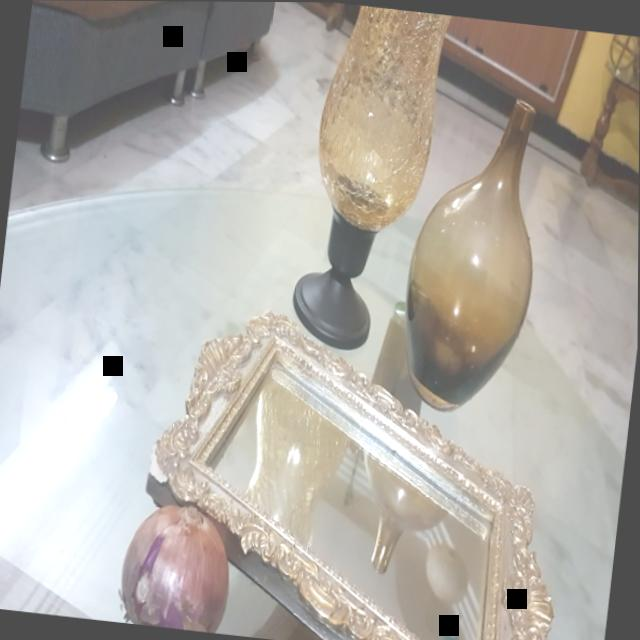onion: (111, 498, 252, 635)
